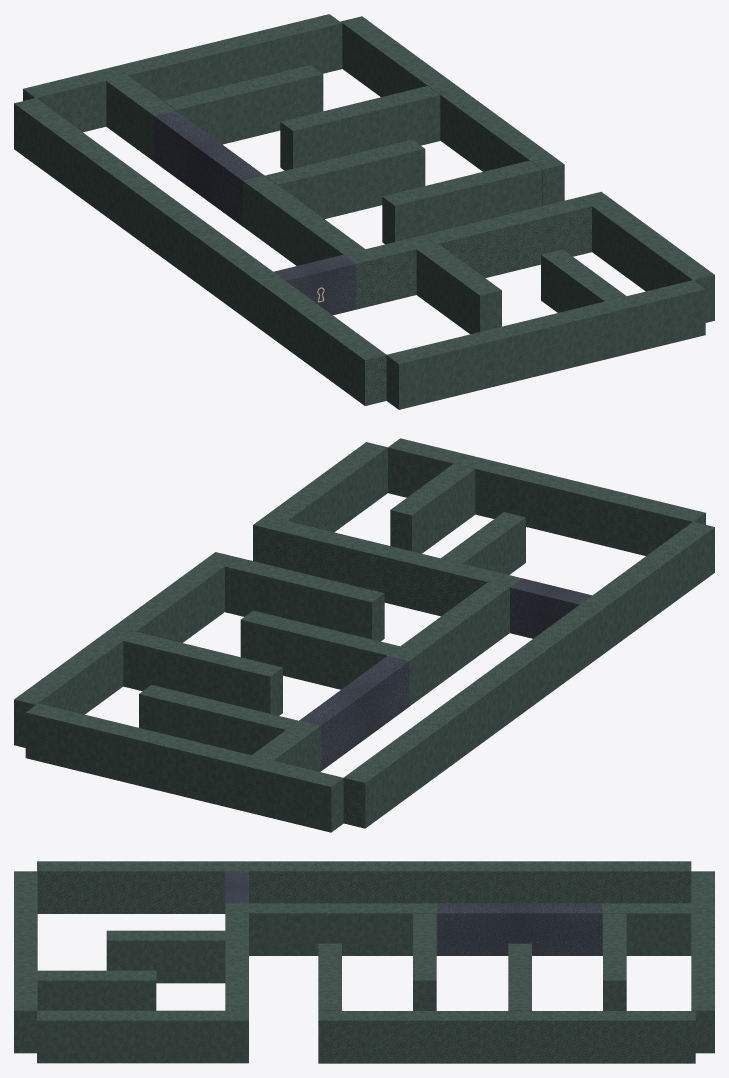
The model's file is layout.fbx.
The picture shows the model from 3 angles, top to bottom: view 1: azimuth 30°, elevation 25°; view 2: azimuth 150°, elevation 25°; view 3: azimuth 270°, elevation 25°; orthographic projection. The views are drawn at different scales.
Parts seen in each view (by area): view 1: OuterWall1, OuterWall5, OuterWall2, polySurface1, OuterWall3, polySurface10, polySurface13, polySurface17, polySurface15, OuterWall4, polySurface12, polySurface4 (+4 smaller); view 2: OuterWall1, OuterWall2, OuterWall5, OuterWall3, polySurface1, polySurface13, polySurface10, polySurface15, polySurface4, OuterWall4, polySurface17, polySurface12 (+4 smaller); view 3: OuterWall1, OuterWall3, OuterWall4, polySurface4, polySurface12, polySurface6, polySurface3, OuterWall5, OuterWall2, polySurface9, polySurface1, polySurface15 (+4 smaller).
Part boxes in pixels (x1,y1,x2,y2): OuterWall1: [14, 98, 386, 405]; OuterWall5: [386, 280, 705, 409]; OuterWall2: [23, 14, 342, 132]; polySurface1: [344, 197, 591, 309]; OuterWall3: [340, 16, 564, 205]; polySurface10: [280, 86, 440, 170]; polySurface13: [382, 160, 542, 244]; polySurface17: [163, 65, 323, 144]; polySurface15: [265, 139, 425, 218]; OuterWall4: [579, 191, 714, 322]; polySurface12: [154, 111, 263, 226]; polySurface4: [242, 175, 364, 265]; OuterWall1: [343, 521, 714, 828]; OuterWall2: [25, 703, 343, 832]; OuterWall5: [388, 438, 705, 555]; OuterWall3: [14, 552, 236, 747]; polySurface1: [275, 521, 521, 632]; polySurface13: [225, 557, 384, 641]; polySurface10: [123, 631, 282, 715]; polySurface15: [240, 610, 399, 689]; polySurface4: [387, 582, 509, 706]; OuterWall4: [253, 442, 387, 566]; polySurface17: [139, 685, 297, 755]; polySurface12: [300, 656, 409, 770]; OuterWall1: [37, 861, 691, 913]; OuterWall3: [318, 1011, 695, 1063]; OuterWall4: [37, 1010, 248, 1063]; polySurface4: [249, 903, 437, 955]; polySurface12: [437, 903, 601, 955]; polySurface6: [106, 930, 225, 983]; polySurface3: [37, 970, 156, 1010]; OuterWall5: [14, 871, 37, 1053]; OuterWall2: [691, 871, 714, 1053]; polySurface9: [602, 903, 691, 955]; polySurface1: [225, 903, 248, 1010]; polySurface15: [413, 913, 436, 1010].
Size of the model in its own units: 39.99 by 5 by 74.35.
Materials: 3 (3 with a texture image).
